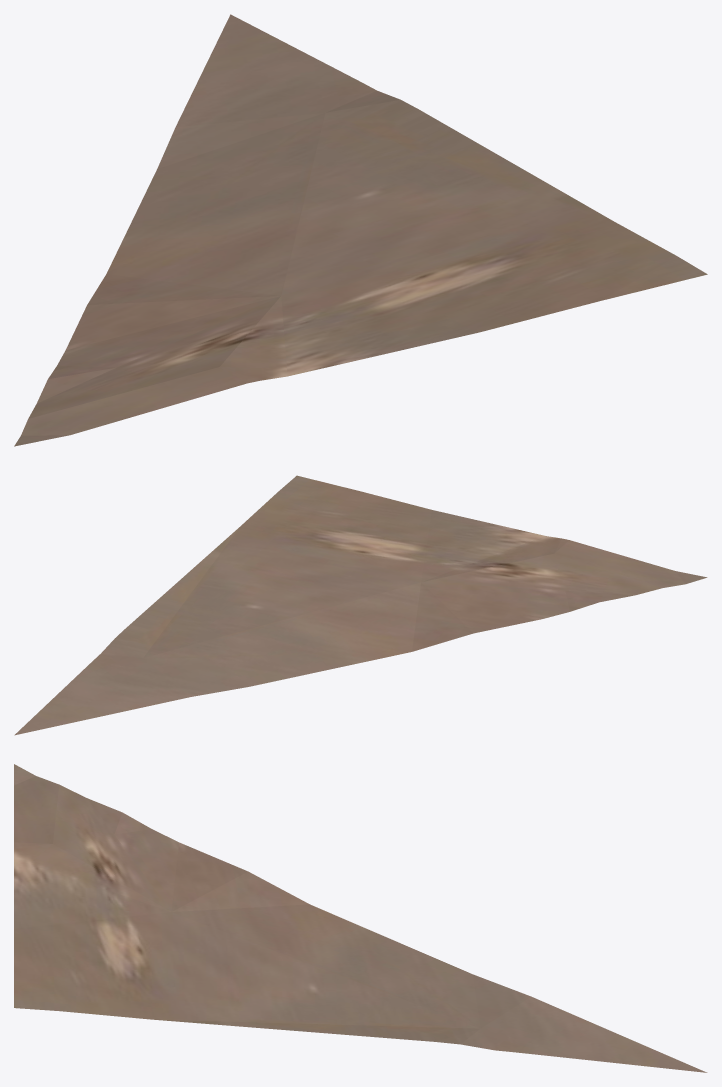
3 views of the same model, one above another, from view 1: azimuth 30°, elevation 25°; view 2: azimuth 150°, elevation 25°; view 3: azimuth 270°, elevation 25° (orthographic). The views are drawn at different scales.
Bounding box in the file's own units: 1.71 × 0.2178 × 2.03.
Materials: 1 (1 with a texture image).
